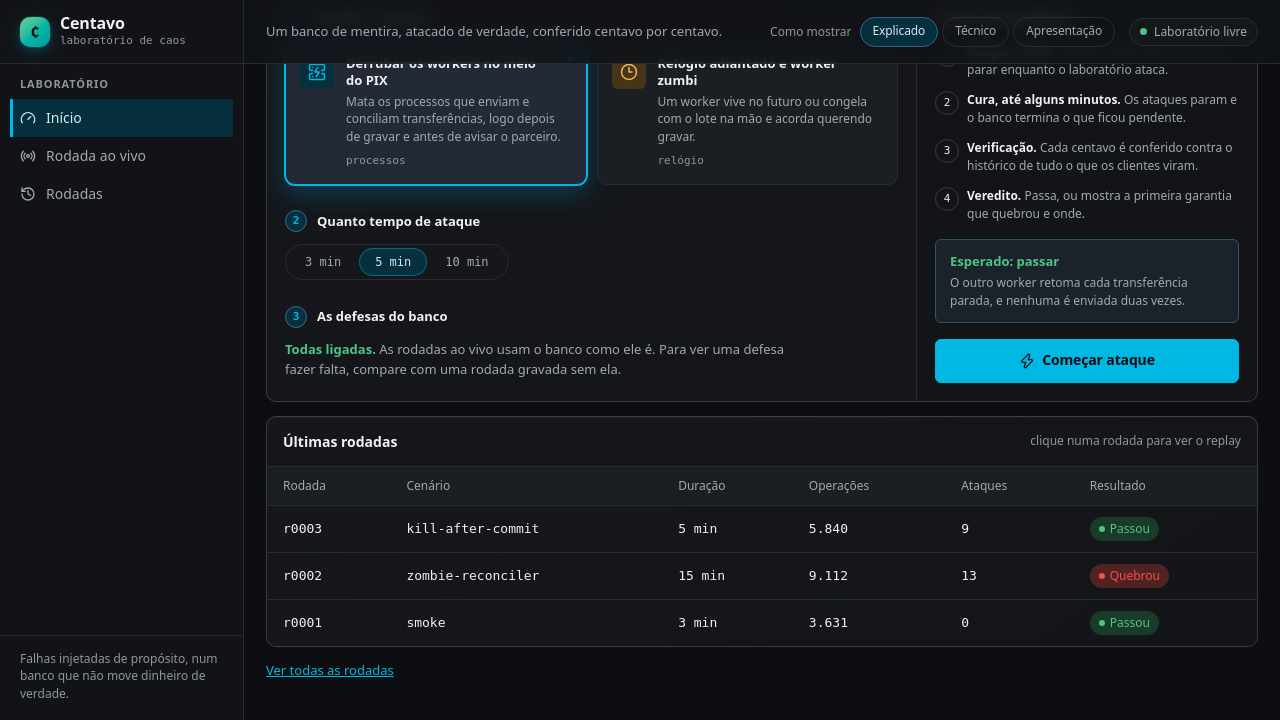
Test: the home page › says why the lab refused, in an urgent notice
The width and height of the screenshot is (1280, 720).
(page scrolled)
Click the button "Começar ataque": (1087, 361) [935,339,1239,383]
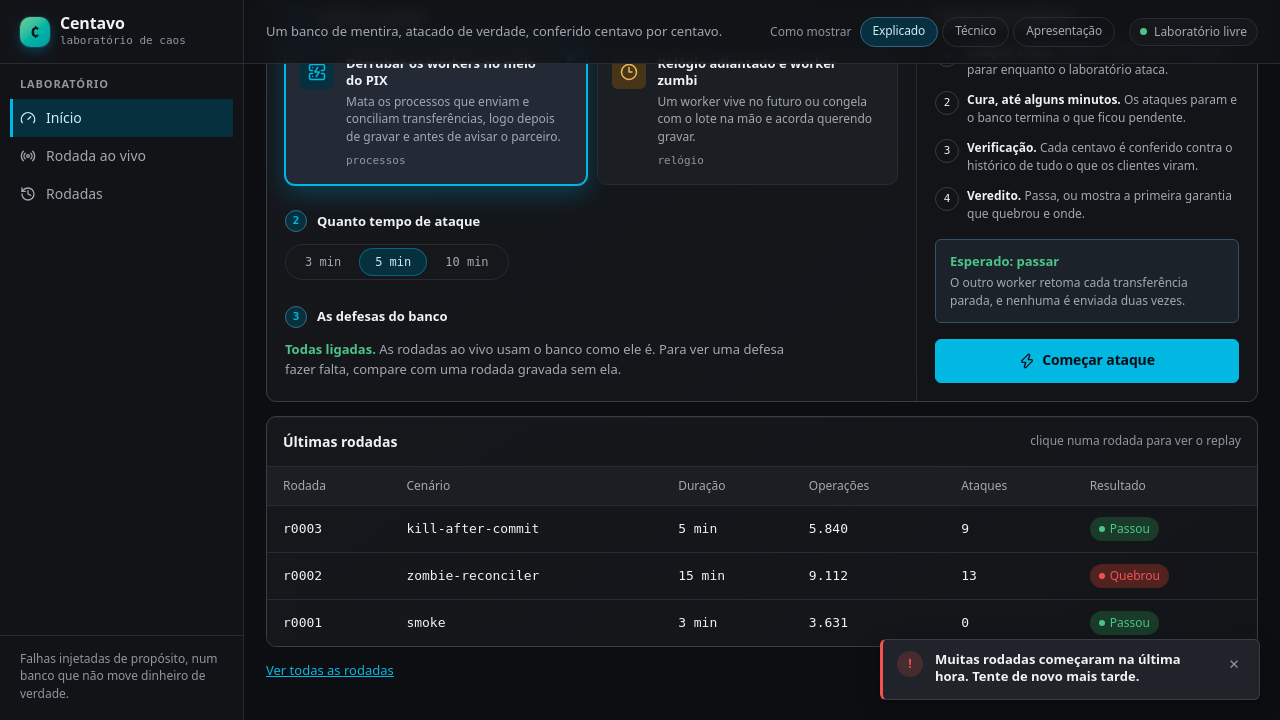
Check: the text "Muitas rodadas começaram na última hora" is shown, box [935,650,1181,685]
